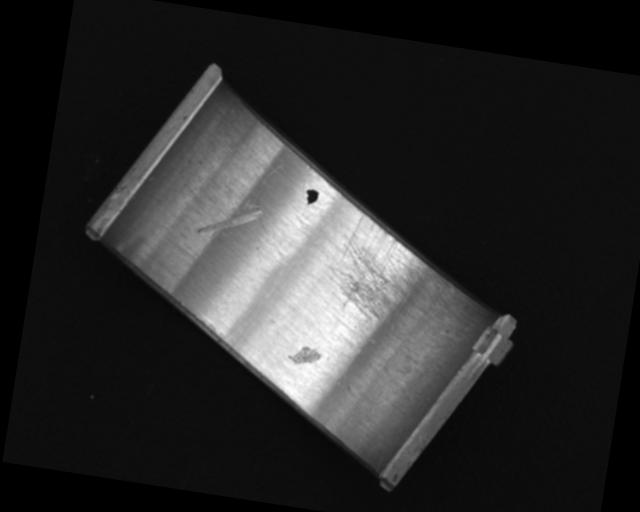blot: (303, 187, 320, 206)
bruise: (286, 342, 324, 367)
nick: (196, 201, 263, 243), (252, 159, 285, 240)
scratch: (316, 207, 455, 334)
